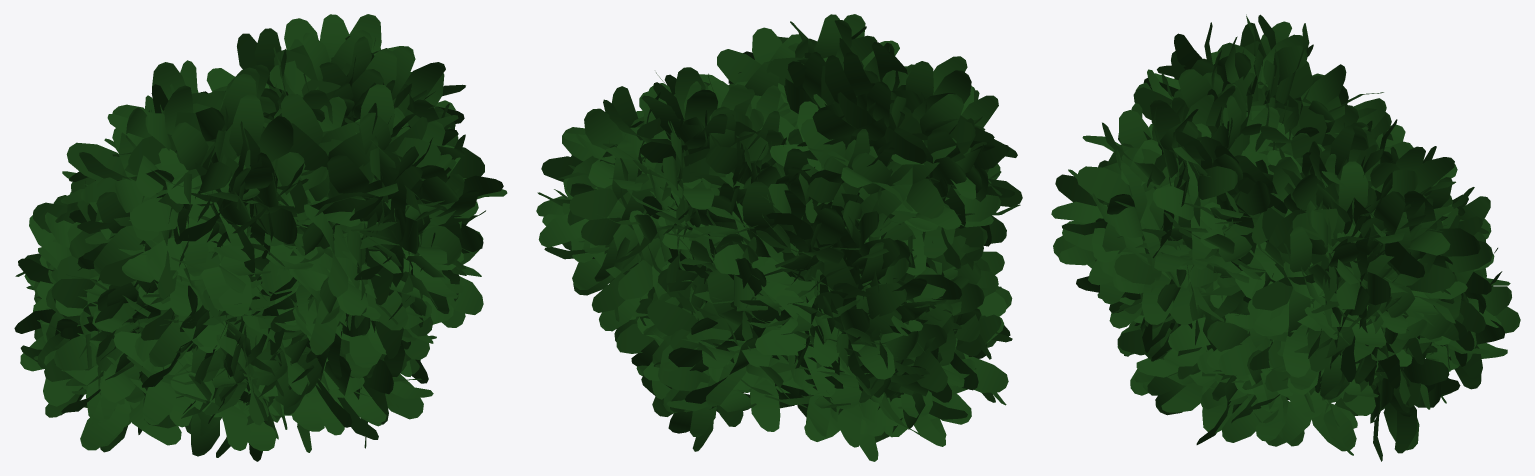
The model's file is Arbusto_3.fbx.
3 views of the same model, side by side, from view 1: azimuth 30°, elevation 25°; view 2: azimuth 150°, elevation 25°; view 3: azimuth 270°, elevation 25° (orthographic). The views are drawn at different scales.
Visible parts, largest first — view 1: Sphere.003|Hoja.001|Dupli|44; view 2: Sphere.003|Hoja.001|Dupli|44; view 3: Sphere.003|Hoja.001|Dupli|44.
Part boxes in pixels (x1,y1,x2,y2): Sphere.003|Hoja.001|Dupli|44: (14, 14, 507, 461); Sphere.003|Hoja.001|Dupli|44: (536, 14, 1022, 461); Sphere.003|Hoja.001|Dupli|44: (1051, 14, 1520, 461).
Size of the model in its own units: 1003 by 853 by 988.
